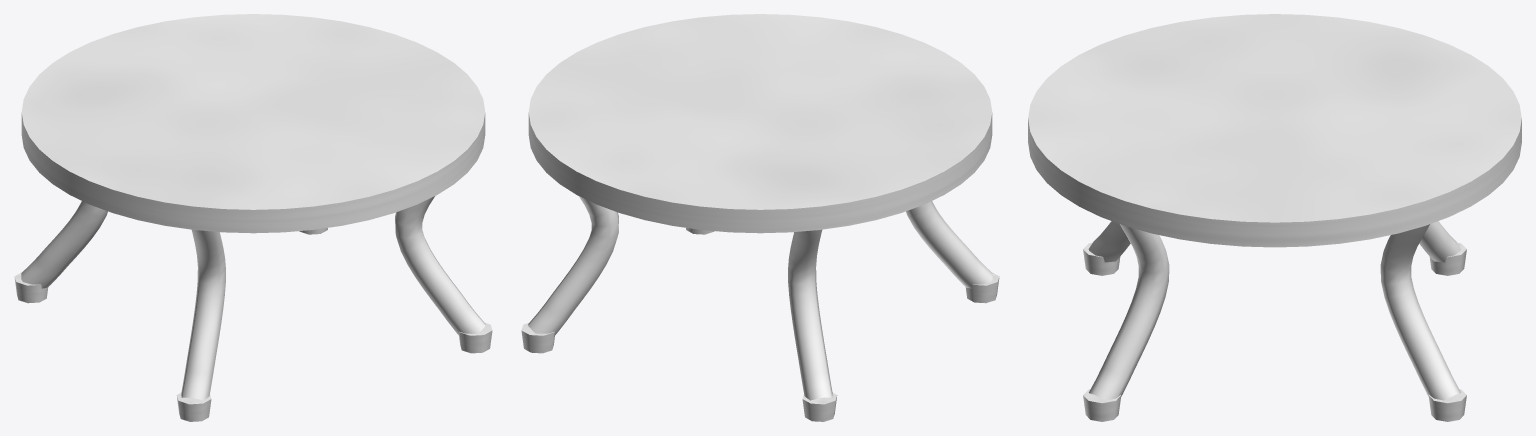
The model's file is low-round-black.glb.
3 views of the same model, side by side, from view 1: azimuth 30°, elevation 25°; view 2: azimuth 150°, elevation 25°; view 3: azimuth 270°, elevation 25° (orthographic). The views are drawn at different scales.
Parts seen in each view (by area): view 1: low-round-black; view 2: low-round-black; view 3: low-round-black.
Part boxes in pixels (left/top/right/bottom): low-round-black: left=14, top=14, right=492, bottom=421; low-round-black: left=521, top=14, right=999, bottom=421; low-round-black: left=1028, top=14, right=1521, bottom=421.
Bounding box in the file's own units: 0.9 × 0.45 × 0.9.
1 material, 1 textured.
